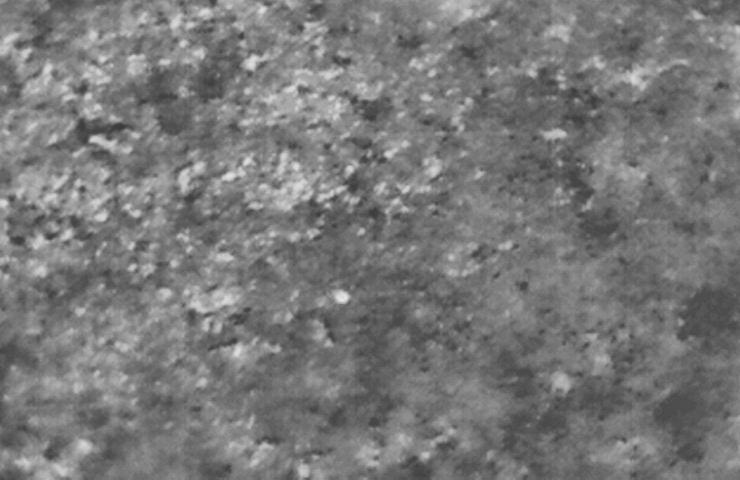landmines: (331, 285, 353, 309)
